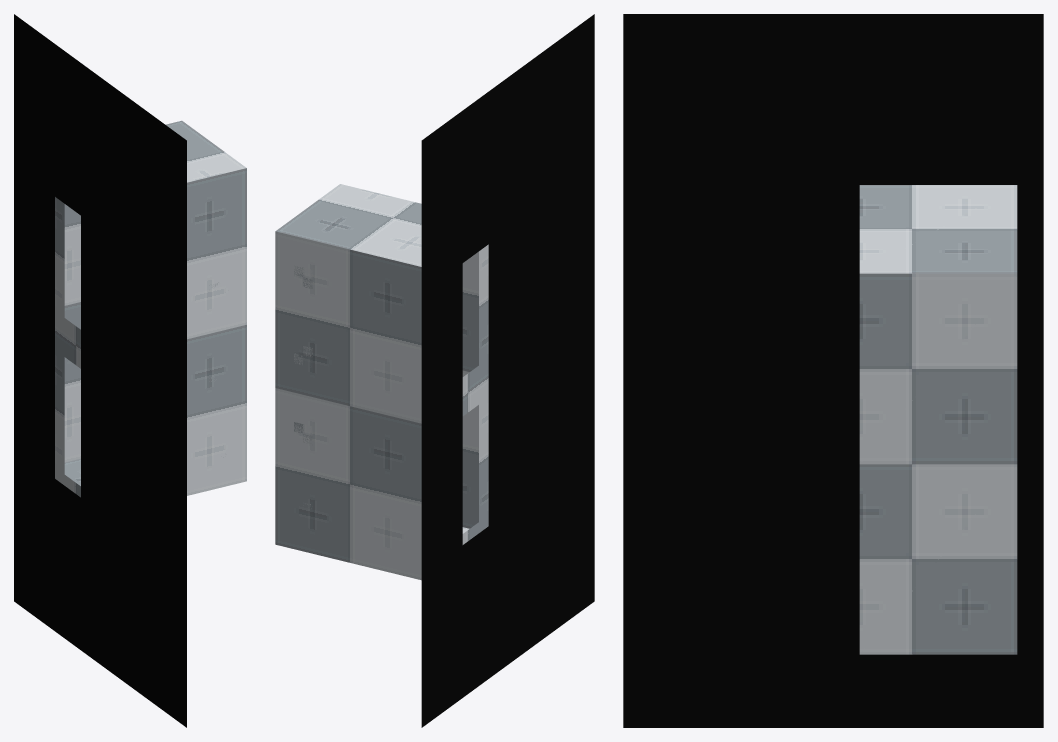
The model's file is tile-game-room6.glb.
The picture shows the model from 3 angles, left to right: view 1: azimuth 30°, elevation 25°; view 2: azimuth 150°, elevation 25°; view 3: azimuth 270°, elevation 25°; orthographic projection. The views are drawn at different scales.
Visible parts, largest first — view 1: Cover, Base; view 2: Cover, Base; view 3: Cover, Base.
Boxes of the visible parts, bbox=[...] form: Cover: bbox=[14, 14, 186, 727]; Base: bbox=[55, 120, 246, 497]; Cover: bbox=[421, 14, 594, 727]; Base: bbox=[275, 184, 488, 580]; Cover: bbox=[623, 14, 1043, 727]; Base: bbox=[859, 185, 1017, 654].
Bounding box in the file's own units: 4.2 × 15 × 8.
2 materials, 1 textured.
